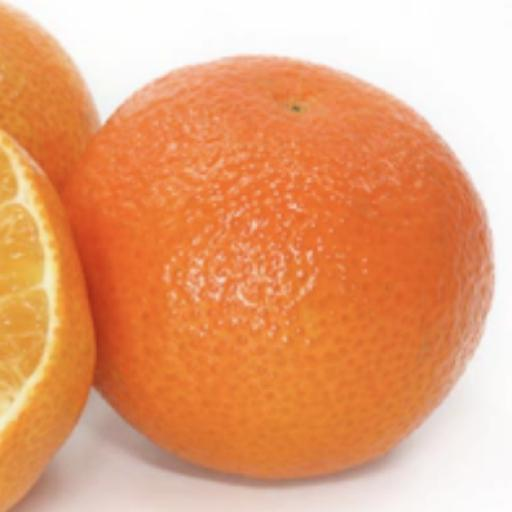orange: (64, 58, 492, 478), (0, 132, 94, 511), (0, 2, 99, 188)
